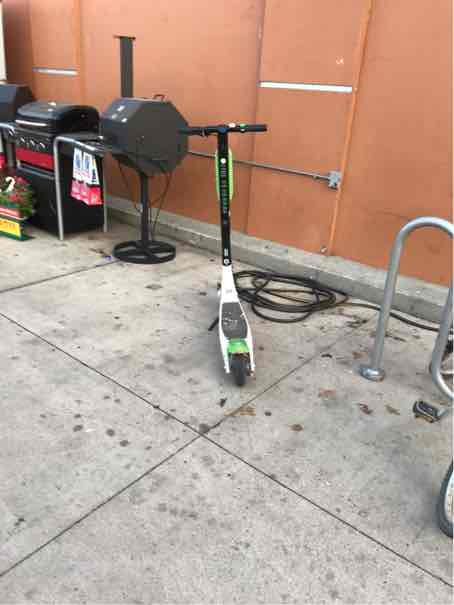scooter: (176, 122, 277, 396)
